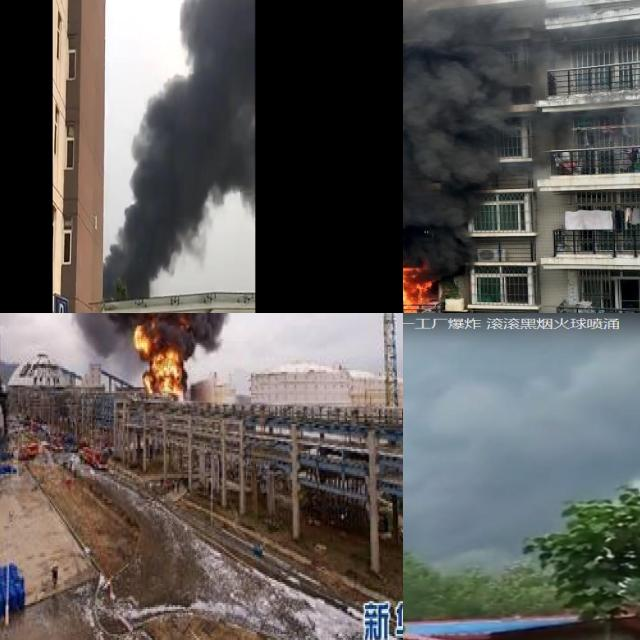fire: (134, 316, 184, 395), (403, 260, 433, 313)
smoke: (403, 313, 640, 565), (403, 0, 592, 267), (103, 0, 254, 301)
